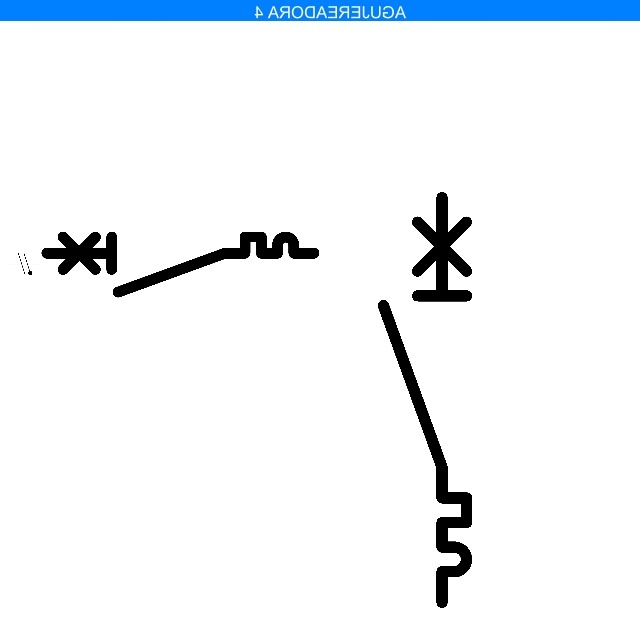interruptor_termomagnetico: (373, 187, 477, 613), (39, 230, 320, 298)
